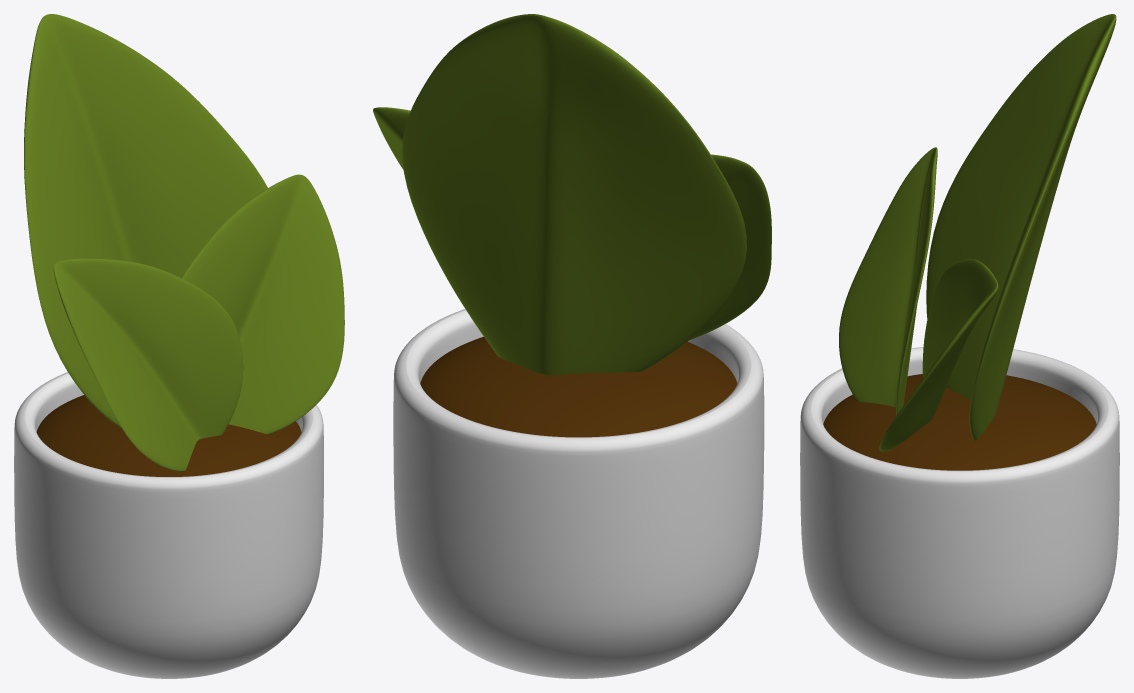
The model's file is Sansevieria masoniana.fbx.
The picture shows the model from 3 angles, left to right: view 1: azimuth 30°, elevation 25°; view 2: azimuth 150°, elevation 25°; view 3: azimuth 270°, elevation 25°; orthographic projection. The views are drawn at different scales.
Visible parts, largest first — view 1: Cylinder, Plane.008, Plane.003, Plane.002, Sphere; view 2: Cylinder, Plane.008, Sphere, Plane.003, Plane.002; view 3: Cylinder, Plane.008, Sphere, Plane.003, Plane.002.
Boxes of the visible parts, <box> form: Cylinder: <box>14,372,323,678</box>; Plane.008: <box>24,14,267,428</box>; Plane.003: <box>53,258,243,471</box>; Plane.002: <box>182,174,344,434</box>; Sphere: <box>36,395,301,476</box>; Cylinder: <box>393,309,764,678</box>; Plane.008: <box>402,14,746,374</box>; Sphere: <box>420,336,737,437</box>; Plane.003: <box>689,154,771,340</box>; Plane.002: <box>373,107,410,169</box>; Cylinder: <box>800,347,1119,678</box>; Plane.008: <box>926,14,1116,440</box>; Sphere: <box>823,374,1096,470</box>; Plane.003: <box>839,147,937,415</box>; Plane.002: <box>879,259,998,451</box>.
Bounding box in the file's own units: 117 × 224 × 106.
